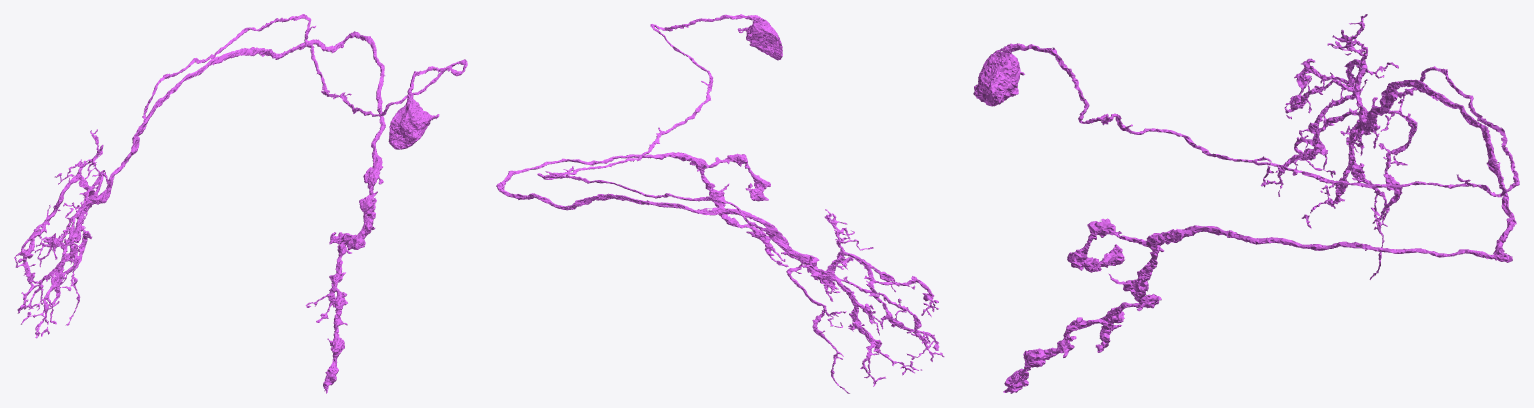
Rendered from VFB_00106cc6.glb.
3 renders of one model, left to right at view 1: azimuth 30°, elevation 25°; view 2: azimuth 150°, elevation 25°; view 3: azimuth 270°, elevation 25°, orthographic. The views are drawn at different scales.
Parts seen in each view (by area): view 1: VFB_00106cc6; view 2: VFB_00106cc6; view 3: VFB_00106cc6.
Part boxes in pixels (box(x1,y1,x2,y2)): VFB_00106cc6: box(14, 14, 467, 393); VFB_00106cc6: box(496, 14, 944, 393); VFB_00106cc6: box(973, 14, 1519, 393).
Size of the model in its own units: 0.0348 by 0.023 by 0.027.
